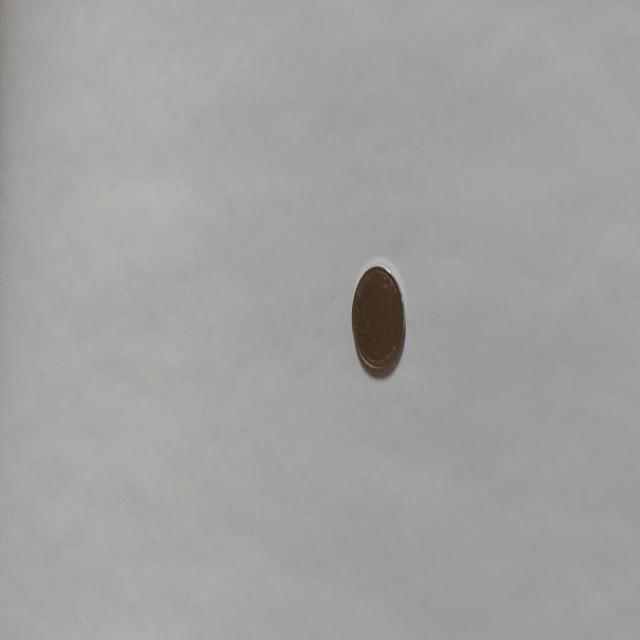seribu rupiah koin: (350, 259, 406, 377)
